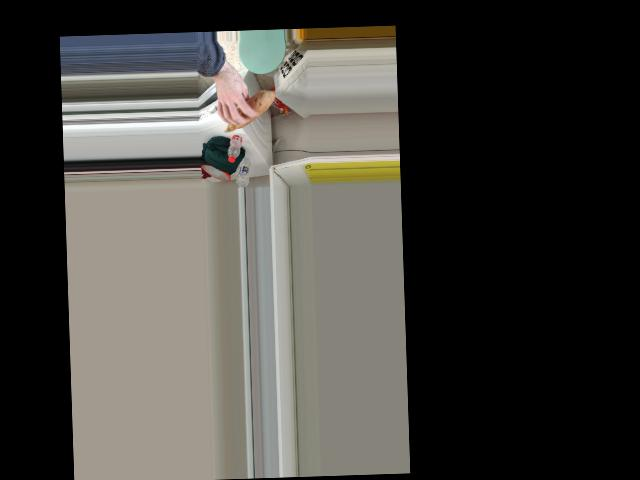sweet_potato: (219, 91, 272, 131)
